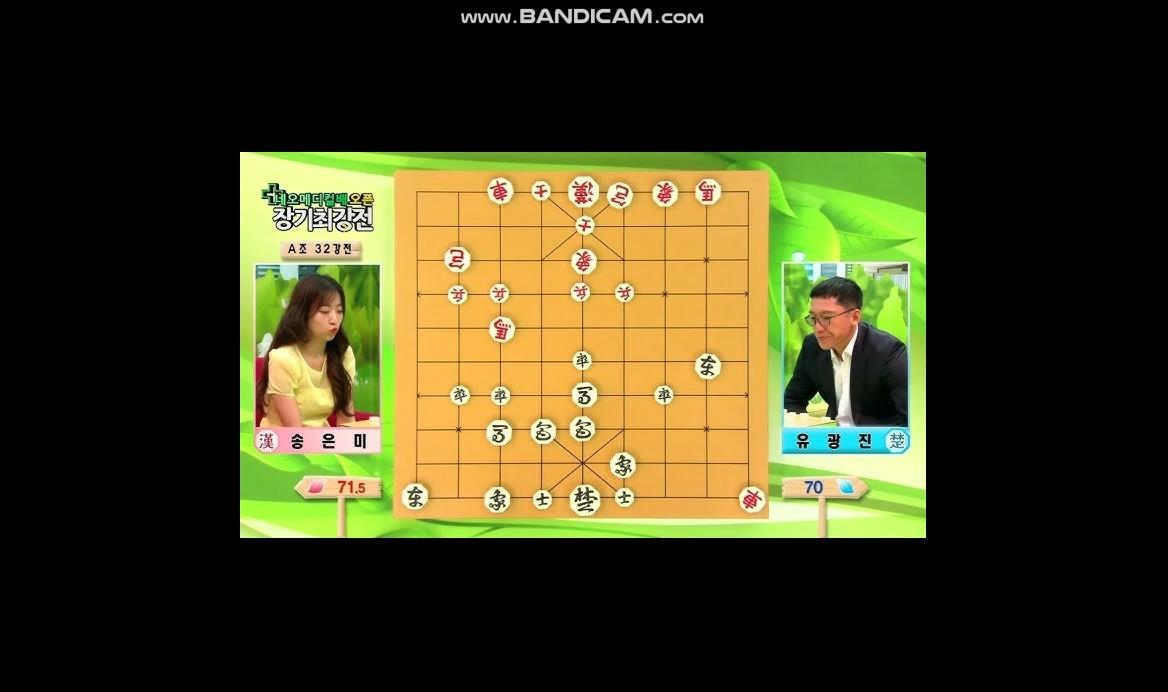cha_green: (695, 354, 722, 381), (402, 483, 430, 508)
cha_red: (739, 488, 766, 513), (486, 180, 515, 203)
jol_green: (449, 386, 472, 407), (572, 350, 593, 371), (489, 386, 512, 405), (654, 386, 675, 406)
jol_red: (613, 283, 637, 304), (488, 284, 512, 303), (570, 283, 593, 302), (448, 285, 469, 305)
ma_green: (487, 419, 513, 446), (570, 383, 600, 406)
ma_red: (487, 317, 517, 343), (694, 180, 723, 203)
po_green: (531, 420, 558, 445), (569, 417, 597, 441)
po_red: (443, 246, 472, 274), (608, 183, 634, 209)
sa_green: (531, 491, 553, 508), (614, 489, 637, 505)
sa_red: (574, 217, 596, 234), (529, 183, 551, 199)
sang_green: (610, 453, 638, 478), (484, 488, 511, 513)
sang_red: (651, 181, 680, 206), (572, 250, 598, 273)
wang_green: (569, 485, 602, 514)
wang_red: (566, 176, 600, 207)
